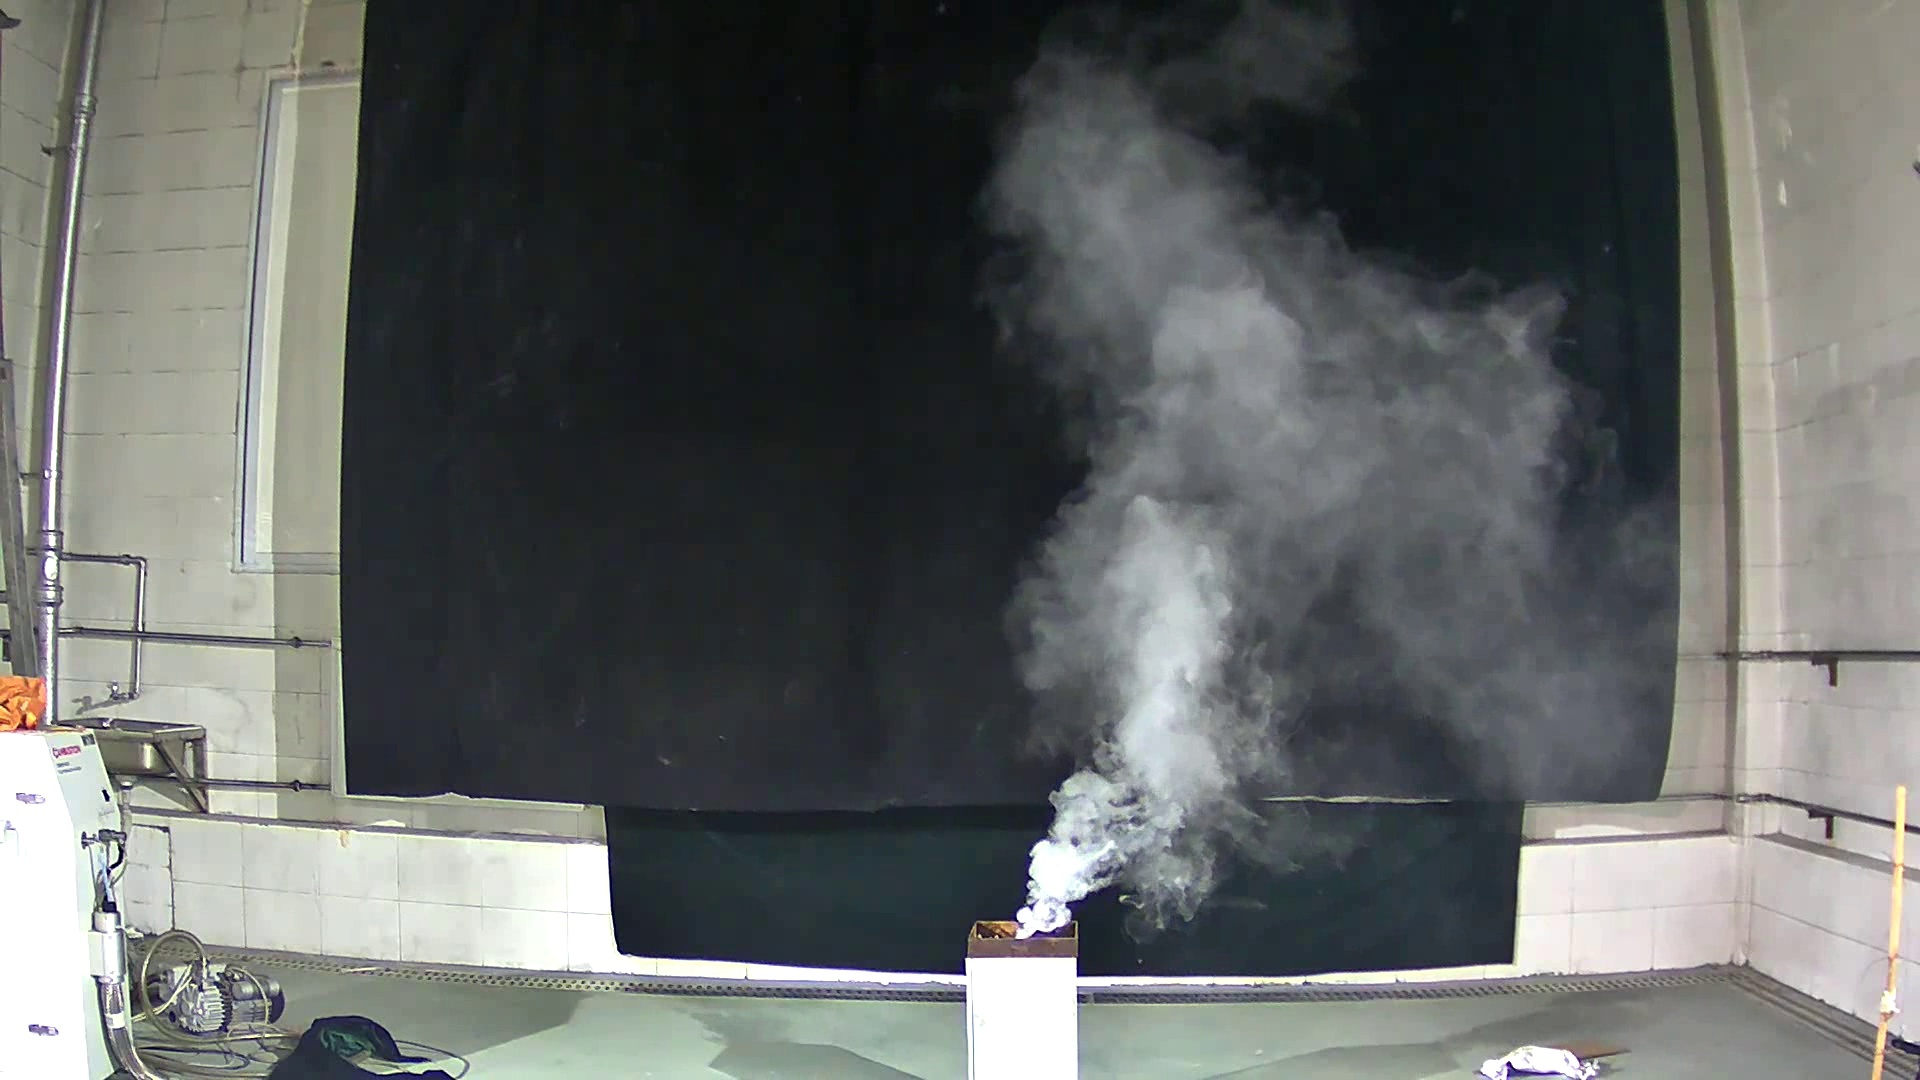smoke: (940, 36, 1671, 947)
